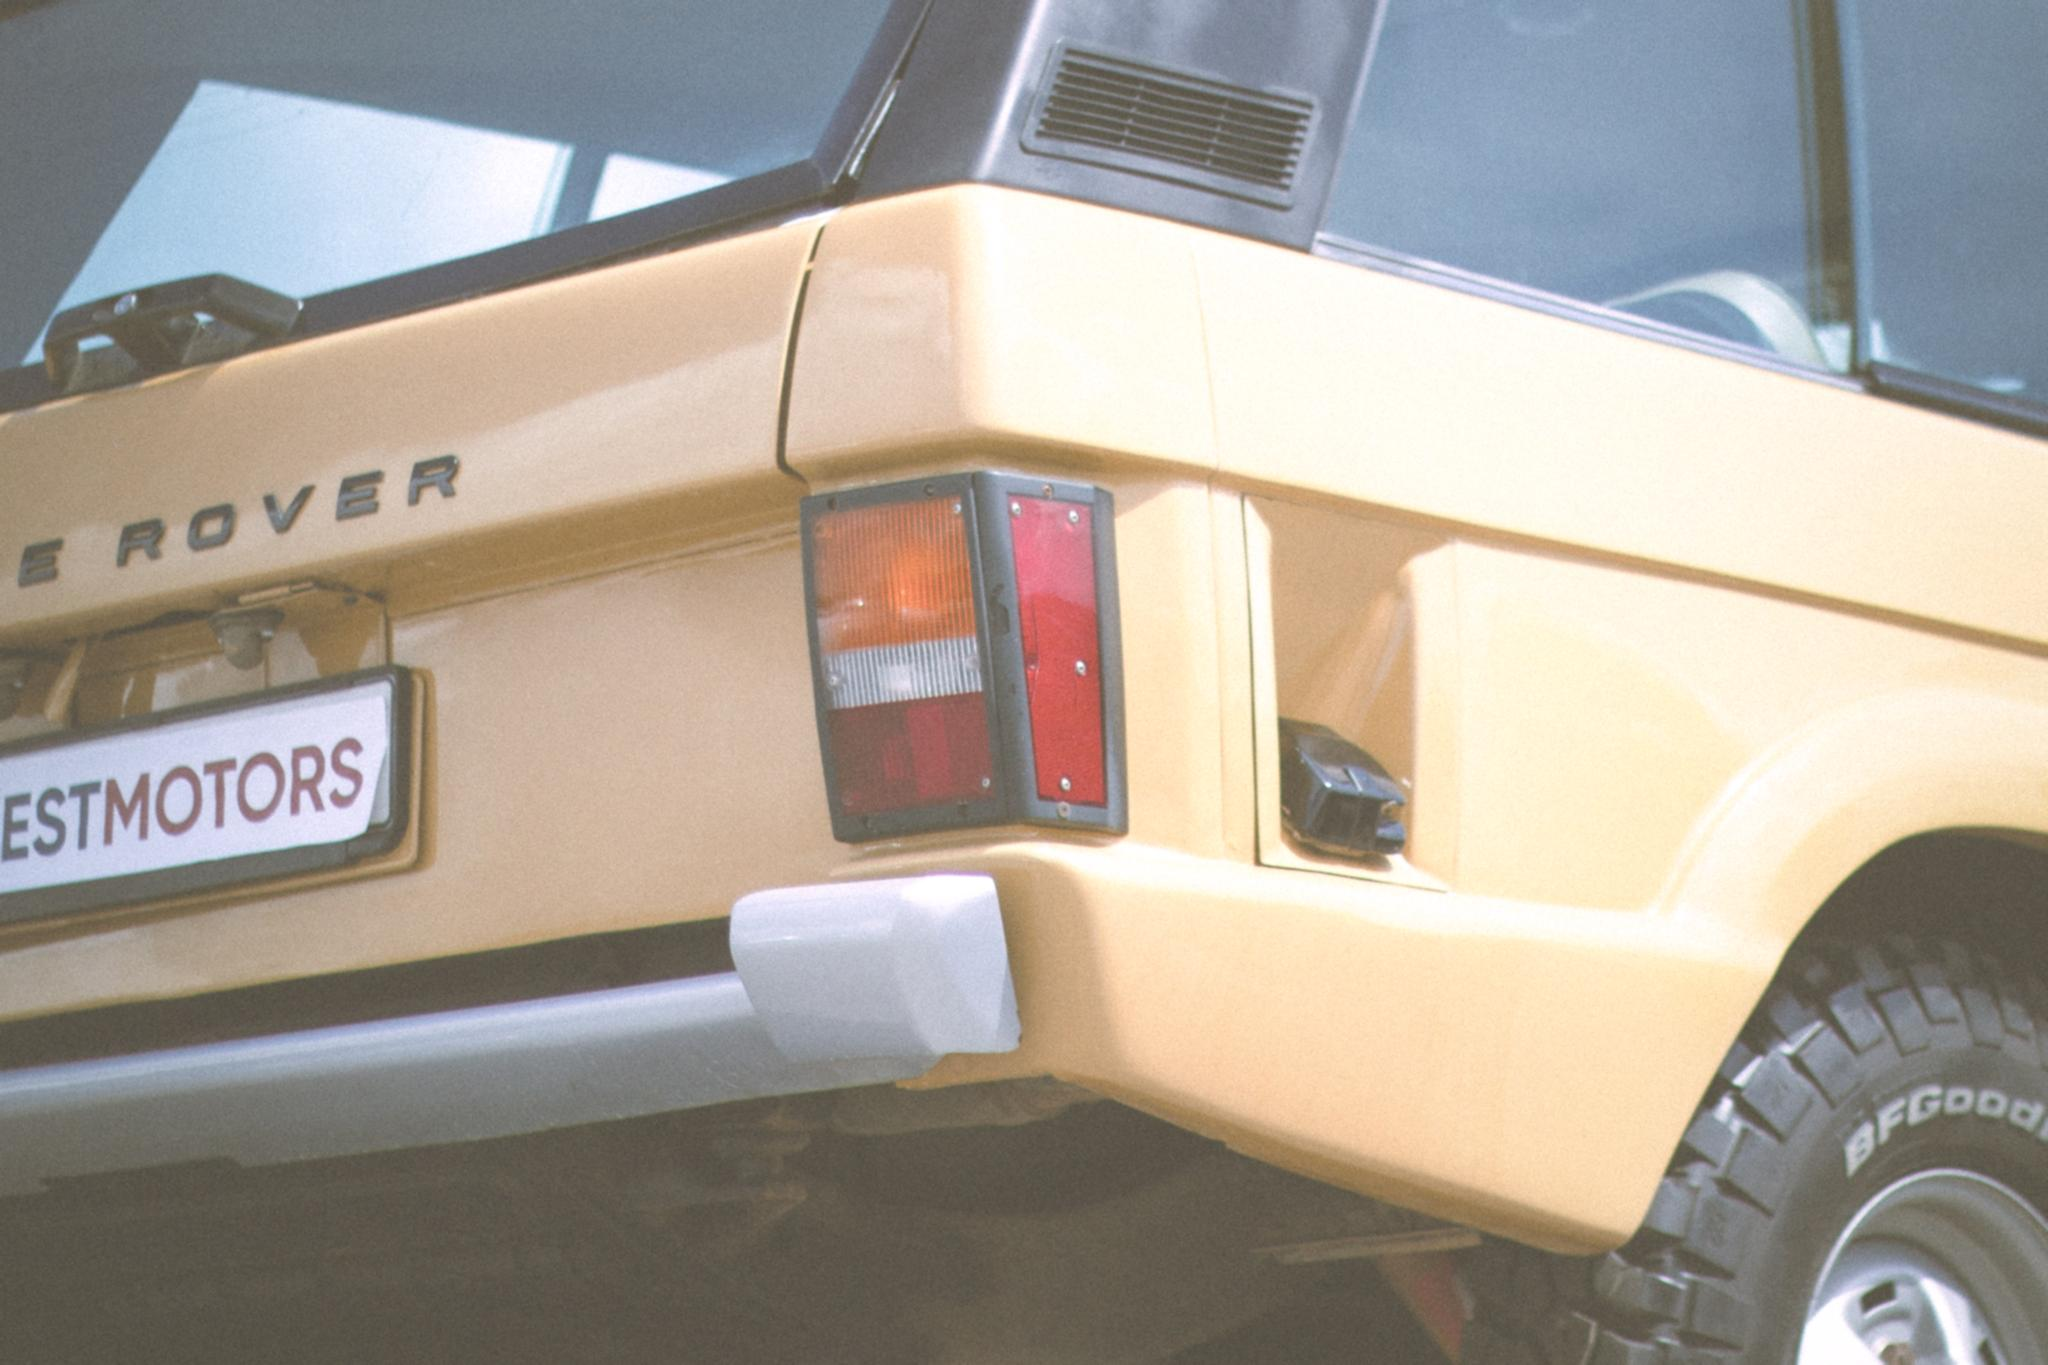range rover: (0, 425, 498, 647)
